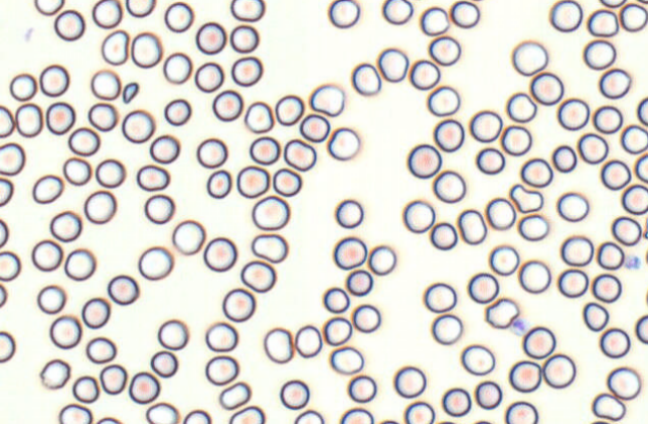PLT: (512, 318, 533, 337), (624, 256, 642, 271)
RBC: (511, 40, 548, 76), (251, 195, 289, 230), (138, 245, 173, 280), (407, 143, 441, 178), (542, 353, 576, 388), (606, 366, 641, 400), (203, 236, 237, 271), (171, 219, 205, 254), (309, 83, 345, 116), (240, 259, 276, 292), (130, 31, 162, 68), (432, 169, 466, 203), (222, 287, 255, 322), (333, 236, 367, 269), (402, 199, 435, 233), (530, 71, 563, 105), (518, 259, 551, 293), (327, 126, 360, 160), (121, 109, 154, 143), (251, 233, 288, 263), (522, 326, 555, 359), (283, 138, 316, 171), (393, 365, 426, 398), (236, 165, 269, 198), (469, 109, 502, 142), (83, 190, 116, 223), (49, 315, 81, 349), (460, 344, 495, 375), (377, 47, 408, 82), (457, 208, 487, 244), (263, 327, 293, 363), (508, 360, 541, 392), (128, 371, 160, 404), (549, 0, 582, 32), (49, 210, 82, 242), (598, 67, 631, 99), (557, 97, 589, 130), (433, 118, 464, 152), (53, 9, 85, 41), (64, 248, 96, 280), (485, 197, 516, 230), (427, 85, 460, 116), (560, 235, 593, 266), (556, 191, 589, 222), (195, 21, 226, 54), (583, 39, 616, 70), (591, 392, 626, 421), (329, 345, 364, 374), (14, 102, 43, 137), (101, 29, 129, 65), (431, 313, 463, 344), (467, 272, 499, 303), (157, 318, 188, 350), (205, 321, 237, 352), (107, 274, 139, 305), (577, 132, 608, 164), (31, 239, 62, 271), (212, 89, 243, 121), (520, 157, 553, 187), (423, 282, 456, 312), (351, 62, 381, 95), (205, 355, 238, 385), (162, 51, 192, 84), (67, 126, 100, 156), (45, 101, 75, 134), (39, 64, 69, 97), (500, 124, 531, 155), (409, 59, 440, 90), (505, 91, 536, 122), (600, 159, 631, 190), (39, 358, 70, 389), (90, 69, 121, 100), (599, 327, 630, 358), (196, 137, 227, 168), (428, 35, 460, 65), (244, 101, 274, 133), (218, 381, 251, 410), (489, 244, 519, 275), (557, 268, 588, 298), (611, 216, 642, 246), (164, 1, 194, 32), (274, 94, 304, 125), (194, 61, 224, 92), (231, 56, 262, 86), (587, 8, 619, 37), (294, 324, 322, 357), (591, 273, 621, 303), (441, 387, 471, 417), (279, 379, 309, 409), (144, 194, 174, 224), (95, 158, 125, 188), (592, 104, 622, 134), (367, 244, 396, 275), (299, 113, 330, 142), (32, 174, 63, 203), (81, 297, 110, 328), (249, 136, 280, 165), (328, 0, 360, 28), (136, 164, 169, 191), (272, 167, 302, 196), (323, 316, 352, 346), (351, 303, 381, 332), (334, 198, 363, 228), (149, 134, 179, 163), (87, 102, 117, 131), (229, 24, 259, 53), (99, 363, 127, 394), (91, 0, 122, 28), (347, 374, 376, 403), (62, 156, 91, 185), (420, 6, 449, 35), (37, 284, 65, 314), (450, 0, 480, 28), (619, 2, 647, 32), (518, 214, 549, 241), (85, 336, 116, 363), (621, 183, 647, 215), (0, 142, 25, 175), (429, 221, 457, 250), (474, 380, 502, 409), (596, 241, 624, 270), (9, 72, 37, 101), (582, 301, 609, 331), (620, 124, 647, 154), (475, 147, 505, 174), (504, 400, 538, 423), (345, 269, 373, 296), (72, 375, 99, 403), (150, 350, 178, 377), (163, 98, 191, 125), (382, 0, 413, 24), (322, 286, 349, 313), (551, 144, 577, 172), (206, 169, 231, 198), (145, 402, 179, 423), (230, 0, 264, 21), (58, 403, 92, 423), (228, 405, 265, 423), (404, 401, 434, 423), (0, 250, 20, 281), (339, 407, 373, 423), (125, 0, 155, 17), (0, 330, 15, 362), (34, 0, 64, 15), (0, 105, 14, 137), (293, 409, 324, 423), (182, 409, 211, 423), (634, 152, 647, 183), (0, 177, 13, 206), (635, 314, 647, 344), (636, 96, 647, 126), (0, 218, 8, 247), (599, 0, 626, 8), (95, 416, 121, 423), (0, 282, 7, 307), (642, 215, 648, 239), (589, 419, 612, 424), (472, 419, 494, 424), (435, 420, 458, 424), (378, 419, 399, 423), (645, 287, 648, 306), (636, 0, 648, 4)
Schistocyte: (484, 298, 519, 329), (511, 183, 544, 213), (123, 81, 141, 106)
